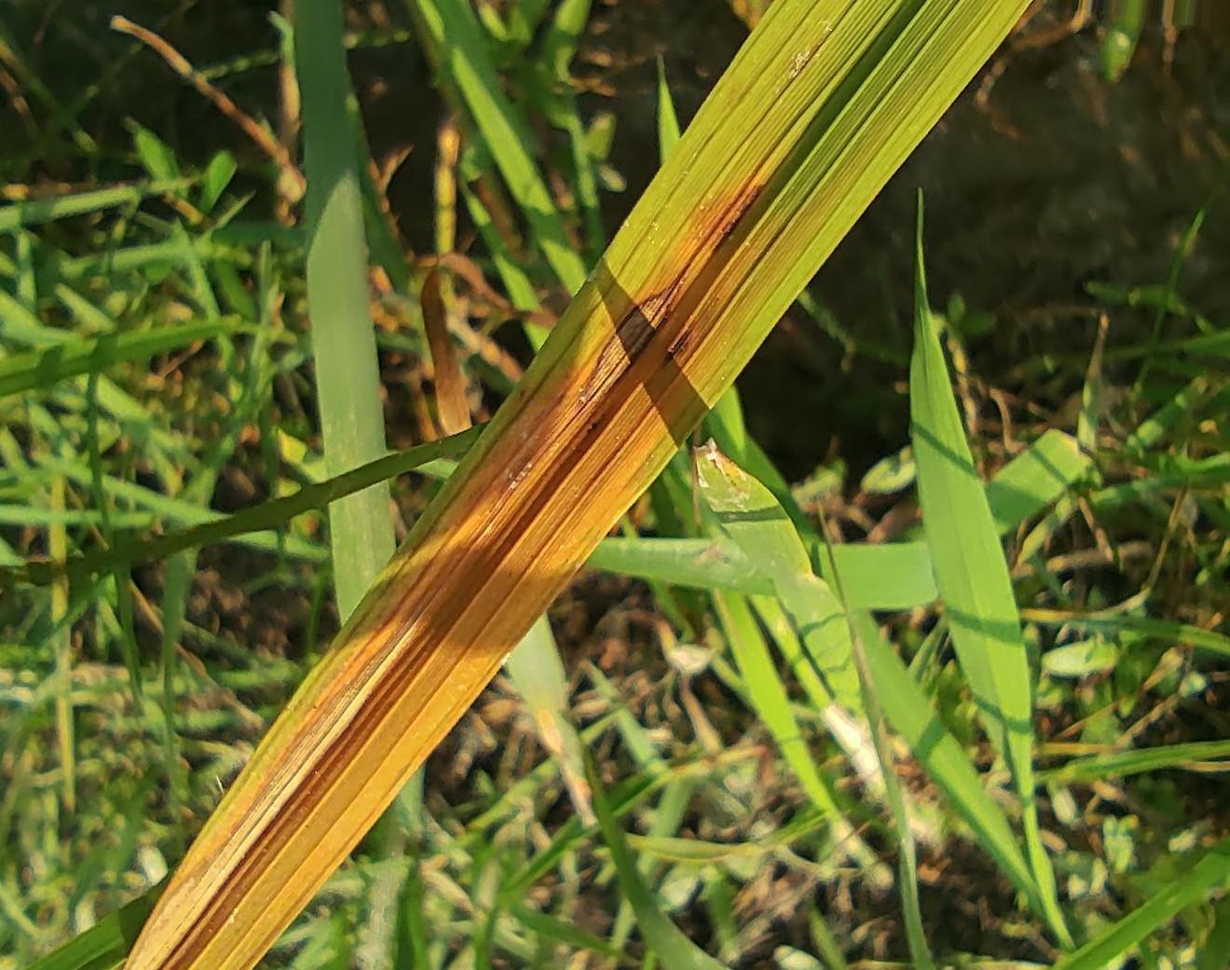LEAF: (128, 0, 1027, 969)
LEAF BLAST: (583, 262, 693, 399)
